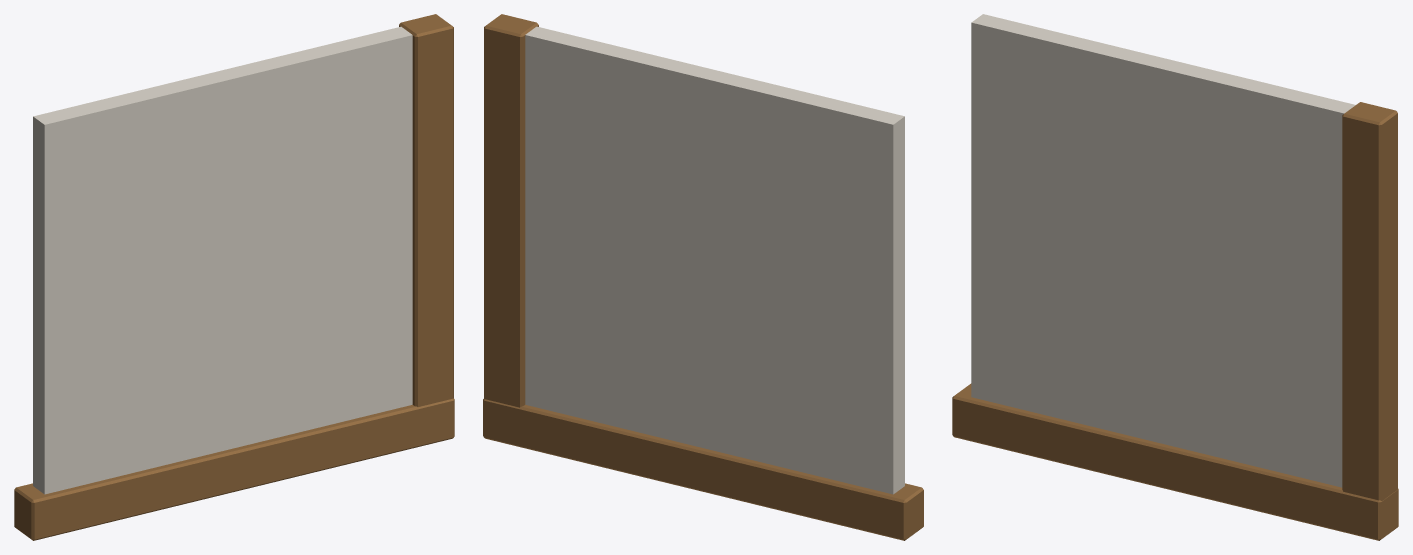
Rendered from Wall.fbx.
The picture shows the model from 3 angles, left to right: view 1: azimuth 30°, elevation 25°; view 2: azimuth 150°, elevation 25°; view 3: azimuth 330°, elevation 25°; orthographic projection.
Visible parts, largest first — view 1: Cube.092, Cube.141, Cube.130; view 2: Cube.092, Cube.141, Cube.130; view 3: Cube.092, Cube.130, Cube.141.
Part boxes in pixels (x1=…): Cube.092: x1=33, y1=26, x2=412, y2=494; Cube.141: x1=14, y1=398, x2=454, y2=540; Cube.130: x1=399, y1=14, x2=453, y2=406; Cube.092: x1=525, y1=26, x2=904, y2=494; Cube.141: x1=483, y1=398, x2=923, y2=540; Cube.130: x1=484, y1=14, x2=538, y2=407; Cube.092: x1=971, y1=14, x2=1355, y2=487; Cube.130: x1=1342, y1=102, x2=1397, y2=500; Cube.141: x1=952, y1=383, x2=1398, y2=540.
Size of the model in its own units: 216 by 201 by 17.27.
